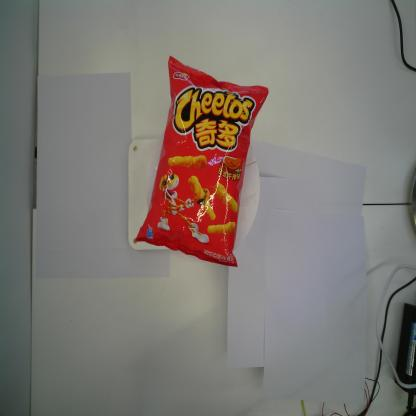Puffed Food: (133, 54, 268, 268)
